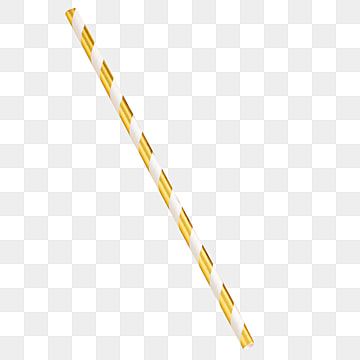Drinking Straw: (63, 4, 260, 352)
